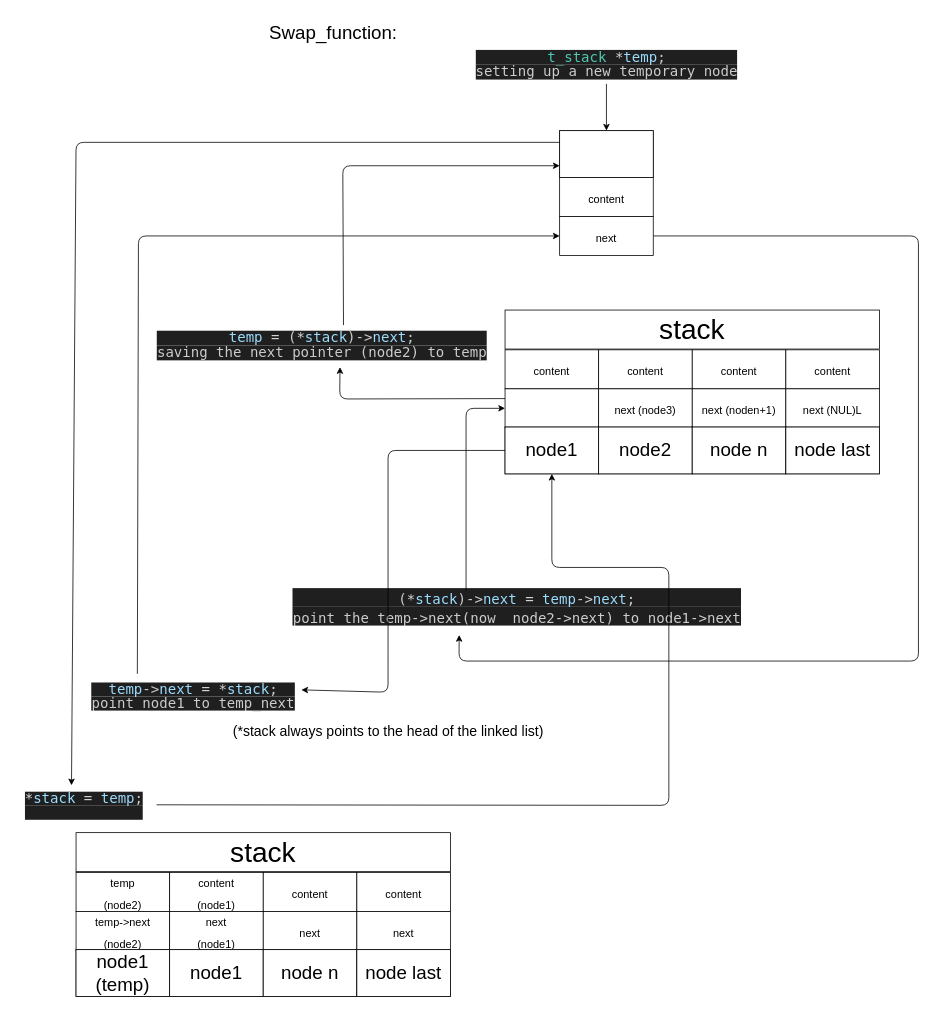
Image size: 938x1010. Some labels were removed from this diagram. Here are the shapes that lost their labels. From the top down, the centre of each, then its label:
point (606, 153): temp
point (551, 408): next (node2)
